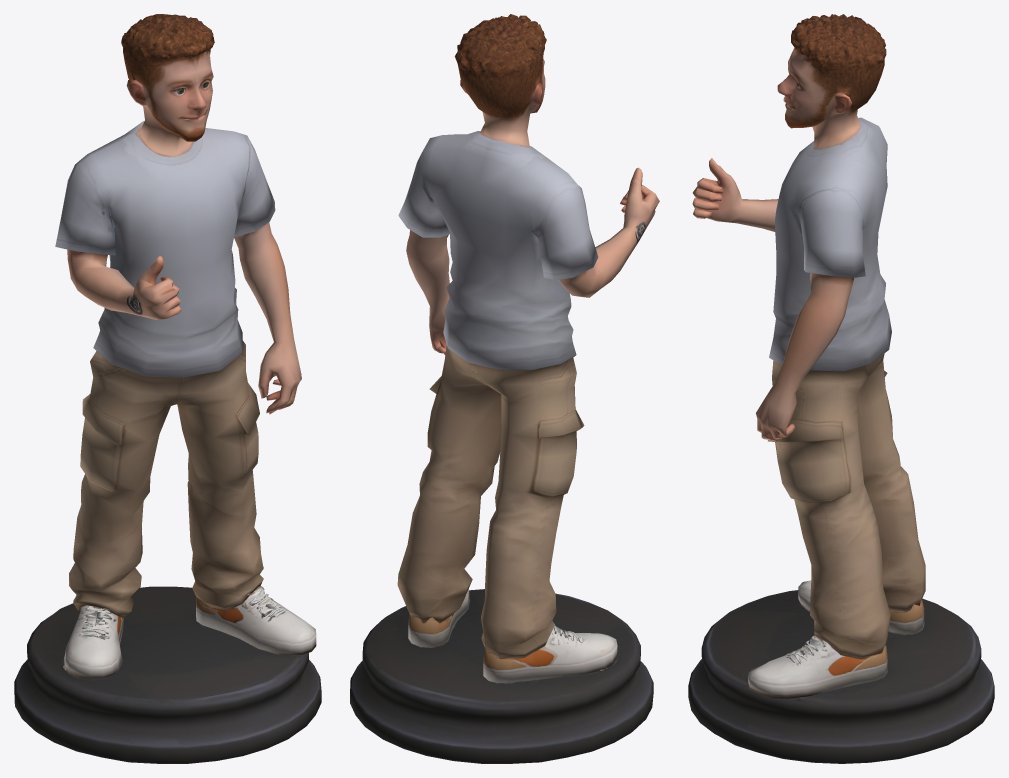
File: selected.glb
3 views of the same model, side by side, from view 1: azimuth 30°, elevation 25°; view 2: azimuth 150°, elevation 25°; view 3: azimuth 270°, elevation 25° (orthographic).
Visible parts, largest first — view 1: tripo_node_a2fab25c-4f7a-4c46-97de-bfe11ecd7664; view 2: tripo_node_a2fab25c-4f7a-4c46-97de-bfe11ecd7664; view 3: tripo_node_a2fab25c-4f7a-4c46-97de-bfe11ecd7664.
Part boxes in pixels (x1,y1,x2,y2): tripo_node_a2fab25c-4f7a-4c46-97de-bfe11ecd7664: (14, 14, 321, 763); tripo_node_a2fab25c-4f7a-4c46-97de-bfe11ecd7664: (350, 14, 659, 763); tripo_node_a2fab25c-4f7a-4c46-97de-bfe11ecd7664: (688, 14, 994, 763).
Bounding box in the file's own units: 0.4082 × 0.998 × 0.4082.
Materials: 1 (1 with a texture image).
